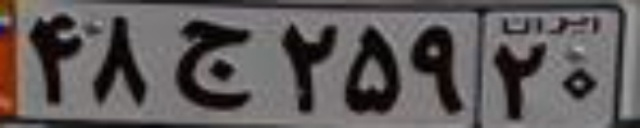0: (555, 66, 602, 101)
2: (280, 21, 337, 113), (491, 40, 551, 119)
4: (32, 12, 85, 104)
5: (342, 24, 402, 115)
8: (94, 14, 148, 107)
9: (412, 24, 463, 114)
jim: (173, 17, 254, 110)
